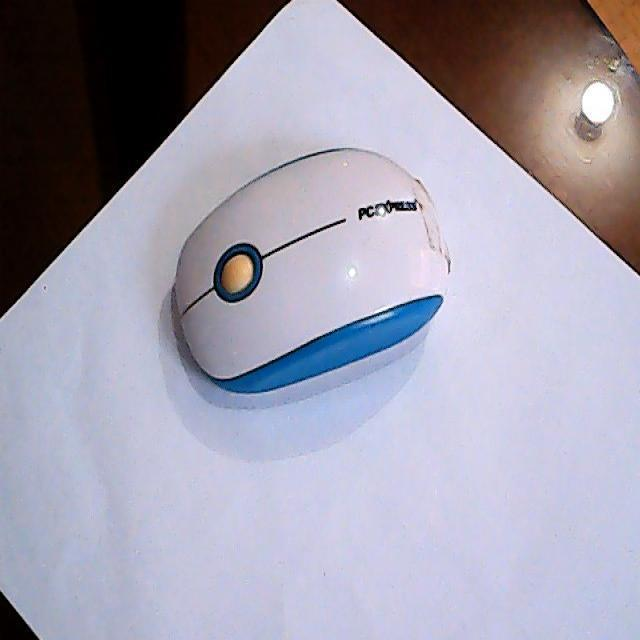Mouse: (174, 144, 452, 396)
